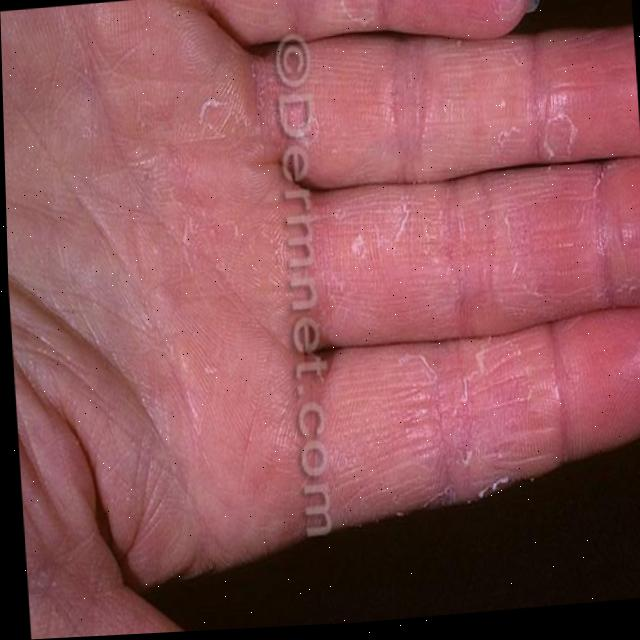Eczema: (387, 311, 640, 521), (327, 165, 640, 330), (489, 5, 640, 168), (305, 0, 531, 55)
